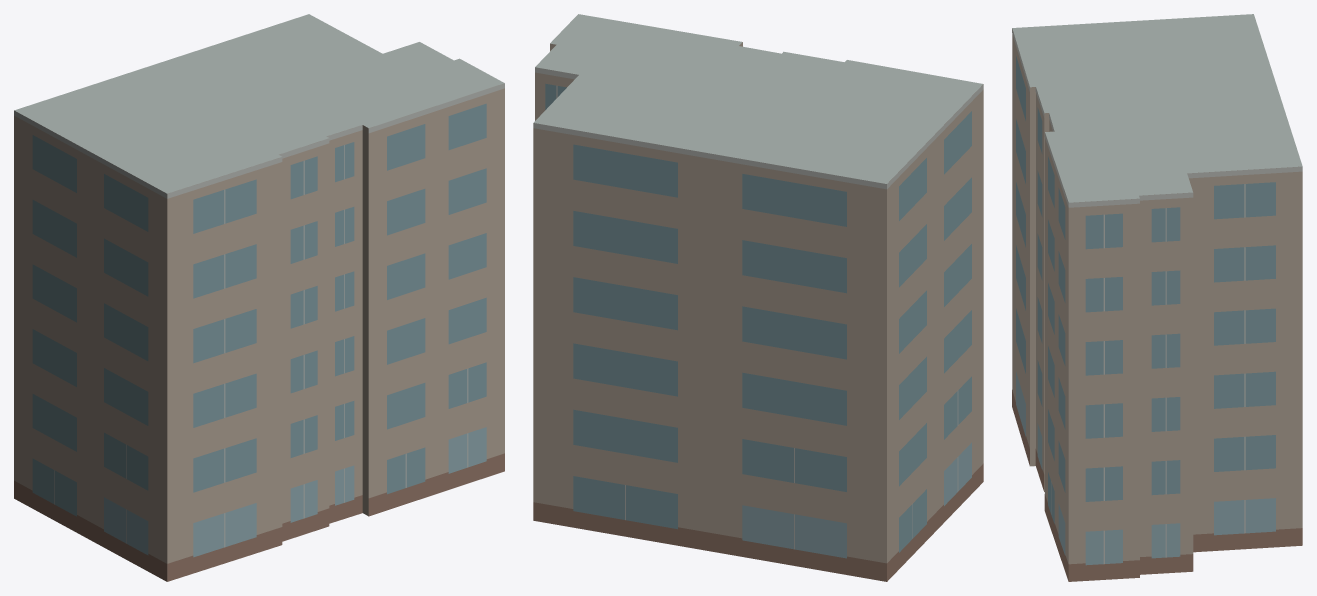
File: survey-upis-32858027.glb
3 renders of one model, left to right at view 1: azimuth 30°, elevation 25°; view 2: azimuth 150°, elevation 25°; view 3: azimuth 270°, elevation 25°, orthographic. The views are drawn at different scales.
Visible parts, largest first — view 1: survey-upis-32858027.tmp; view 2: survey-upis-32858027.tmp; view 3: survey-upis-32858027.tmp.
Part boxes in pixels (<box>): survey-upis-32858027.tmp: <box>14,14,504,581</box>; survey-upis-32858027.tmp: <box>533,14,983,581</box>; survey-upis-32858027.tmp: <box>1012,14,1302,581</box>.
Bounding box in the file's own units: 19.54 × 18.3 × 12.72.
